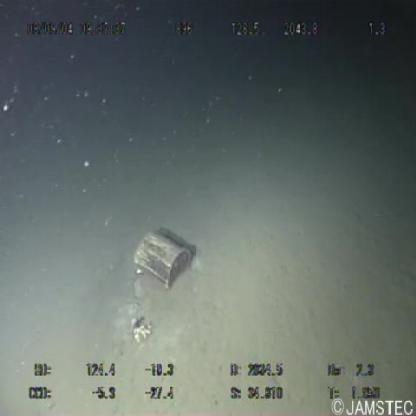Rác: (134, 228, 198, 288)
